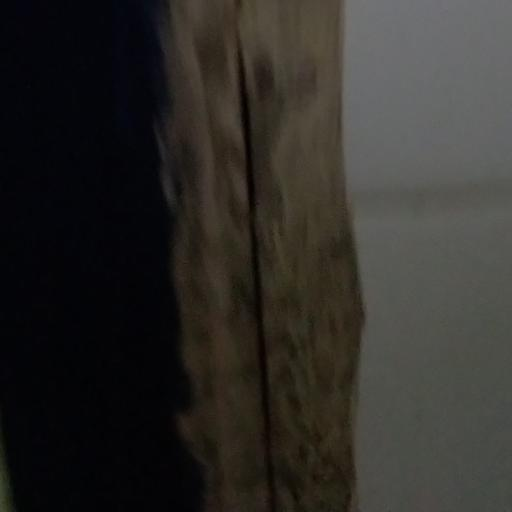spalling: (135, 3, 422, 512)
